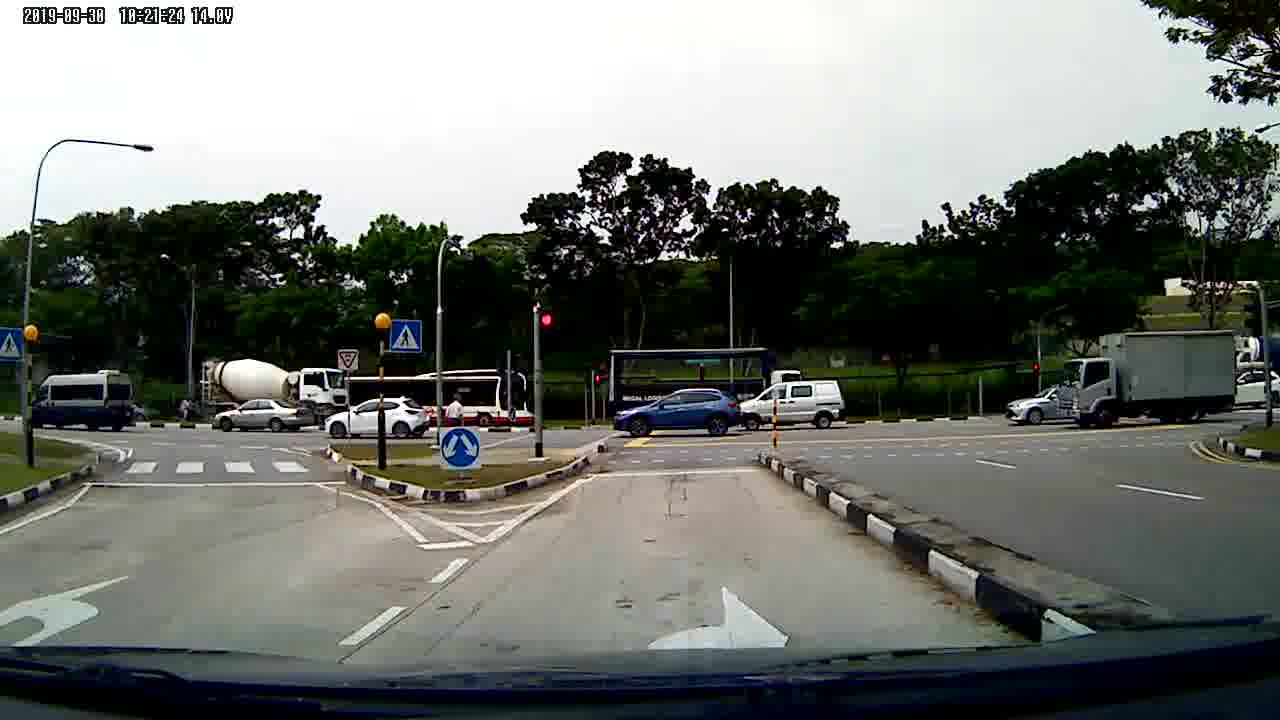bus: (331, 365, 534, 429)
car: (608, 383, 746, 439), (325, 398, 431, 443), (211, 396, 316, 430), (1003, 388, 1064, 429)
